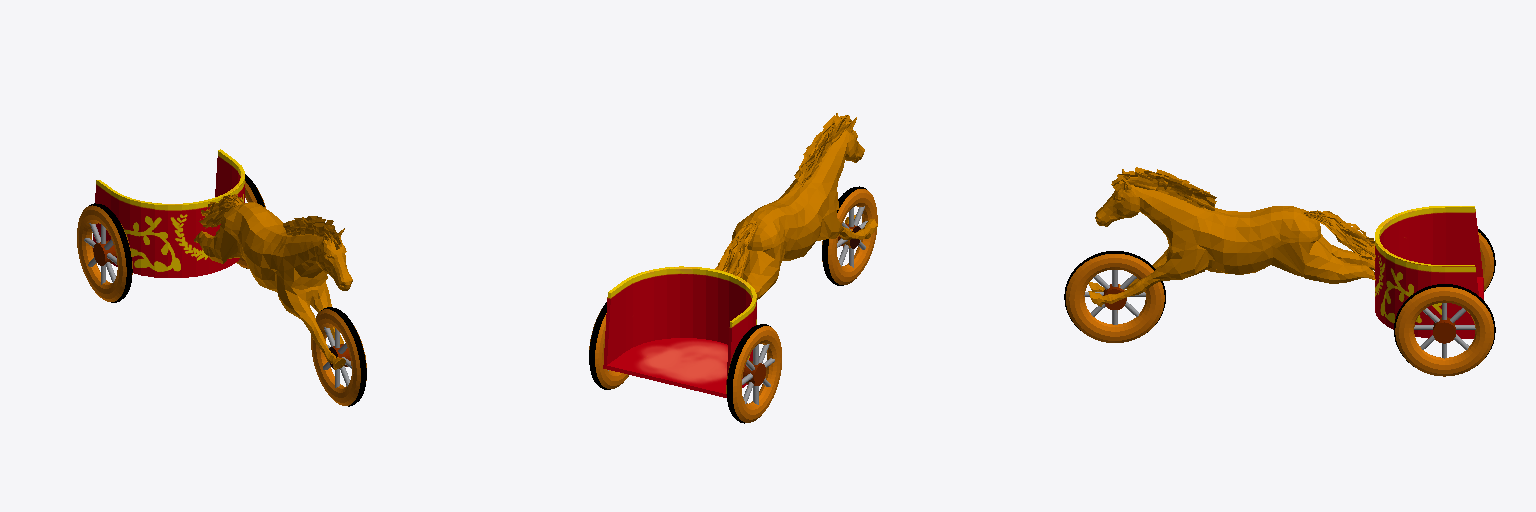
The picture shows the model from 3 angles: view 1: azimuth 30°, elevation 25°; view 2: azimuth 150°, elevation 25°; view 3: azimuth 270°, elevation 25°; orthographic projection.
Parts seen in each view (by area): view 1: Horse, Chassis, rightWheel, frontWheel; view 2: Chassis, Horse, rightWheel, frontWheel, leftWheel; view 3: Horse, Chassis, leftWheel, frontWheel, rightWheel.
Boxes of the visible parts, x1,y1,x2,y2 form: Horse: [194, 194, 365, 369]; Chassis: [93, 149, 244, 277]; rightWheel: [77, 203, 132, 302]; frontWheel: [311, 307, 366, 406]; Chassis: [603, 266, 756, 397]; Horse: [715, 113, 877, 299]; rightWheel: [726, 324, 781, 423]; frontWheel: [822, 186, 877, 285]; leftWheel: [589, 302, 628, 389]; Horse: [1088, 167, 1375, 306]; Chassis: [1375, 206, 1483, 338]; leftWheel: [1394, 284, 1495, 376]; frontWheel: [1064, 251, 1165, 342]; rightWheel: [1478, 229, 1495, 291].
Size of the model in its own units: 0.6345 by 0.7055 by 1.59.
3 materials, 2 textured.